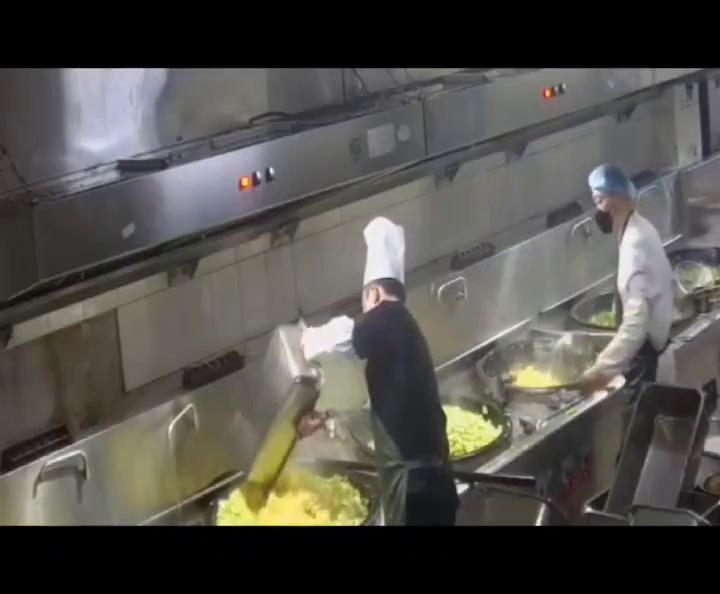gloves: (587, 164, 634, 200)
mask: (585, 205, 621, 237)
